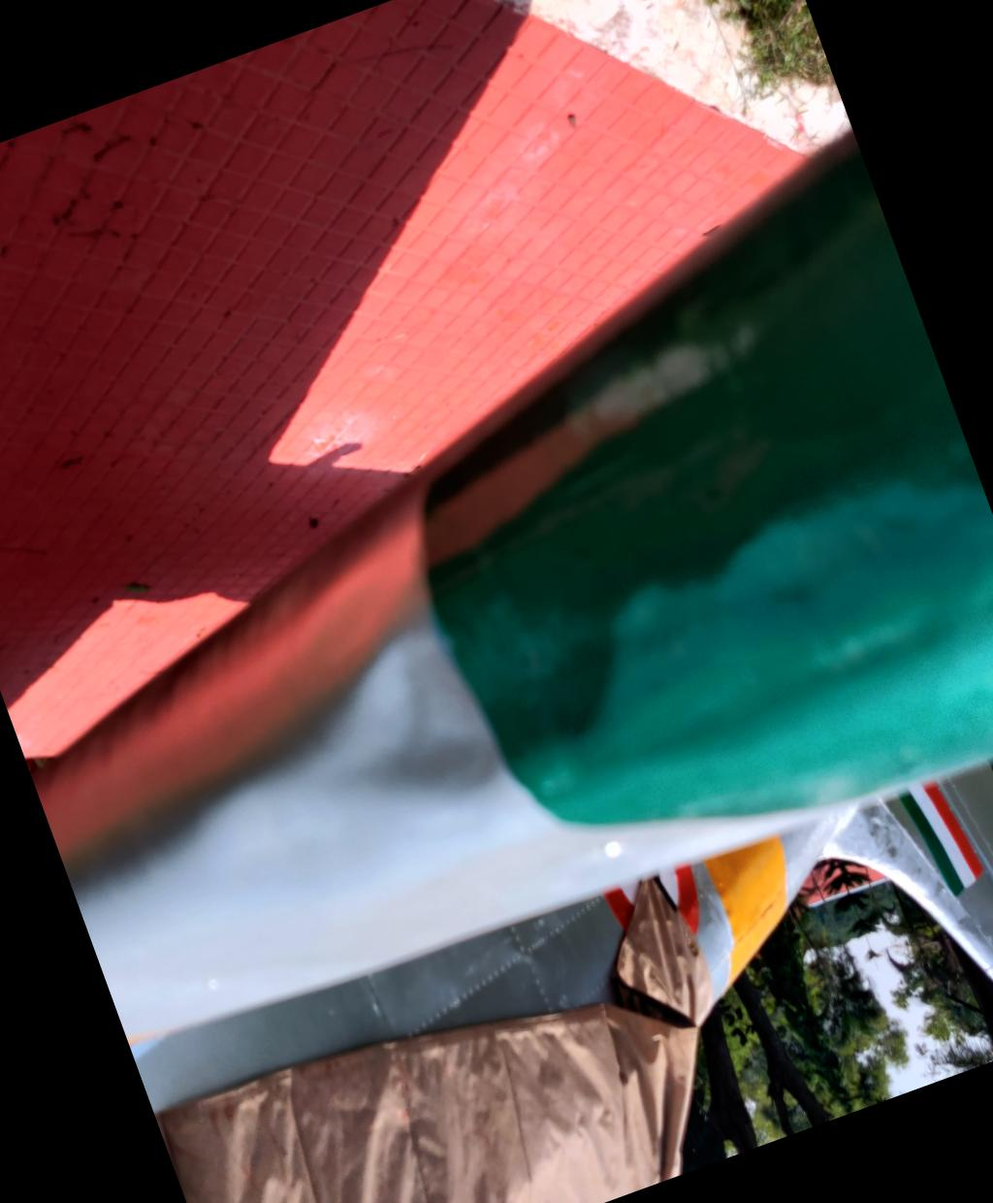dent: (228, 490, 698, 892)
